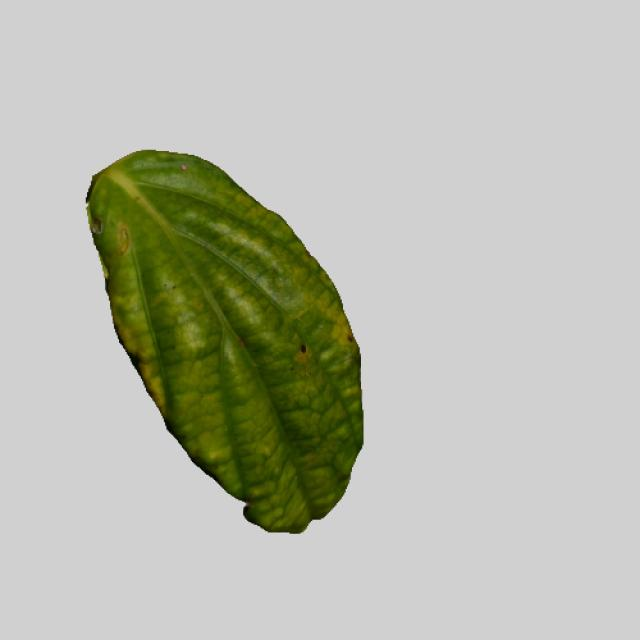yellow-mottle-virus: (65, 147, 372, 534)
